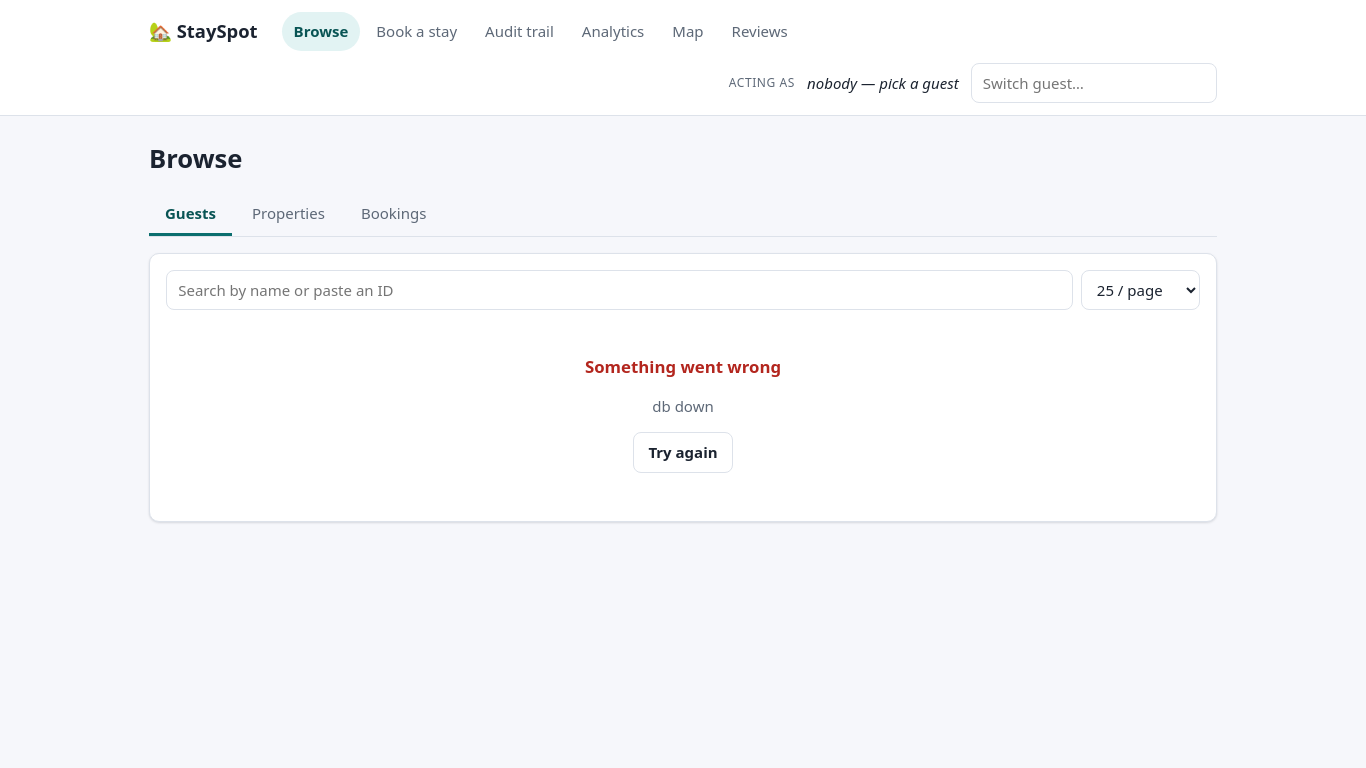
Scenario: Browse › shows an empty state, and an error state with a working retry
Check: the message shows "db down", box [652,396,714,416]
Click the button "Try again" at [683, 452], box [633,432,733,473]
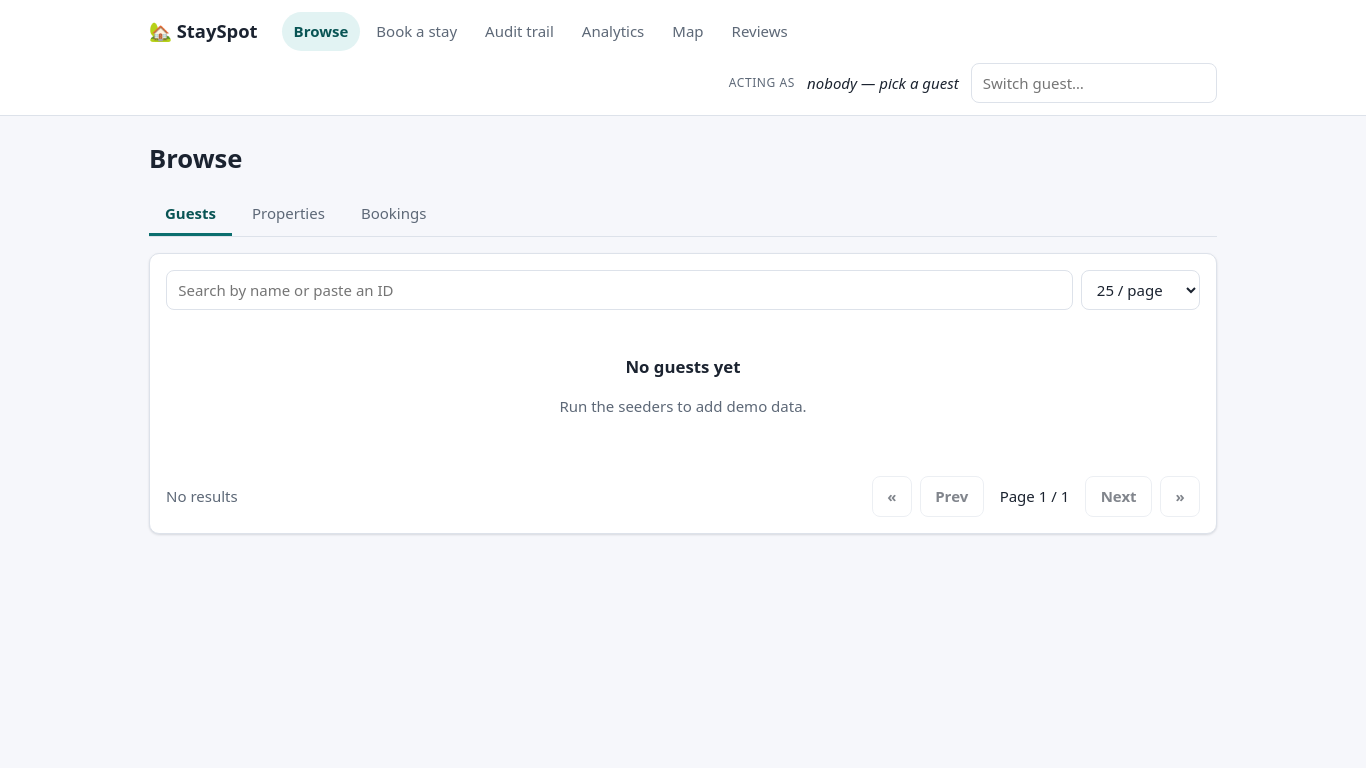
Check: the text "No guests yet" is shown, box [626,355,740,378]
